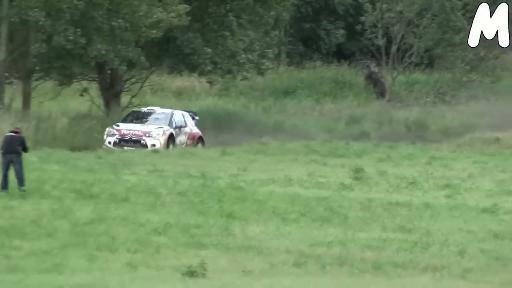CAR: (100, 92, 215, 168)
